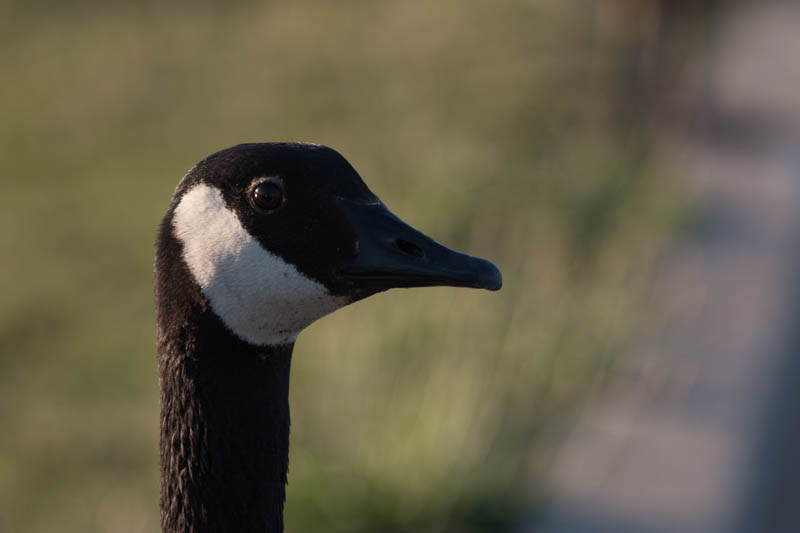goose-head: (154, 143, 505, 347)
